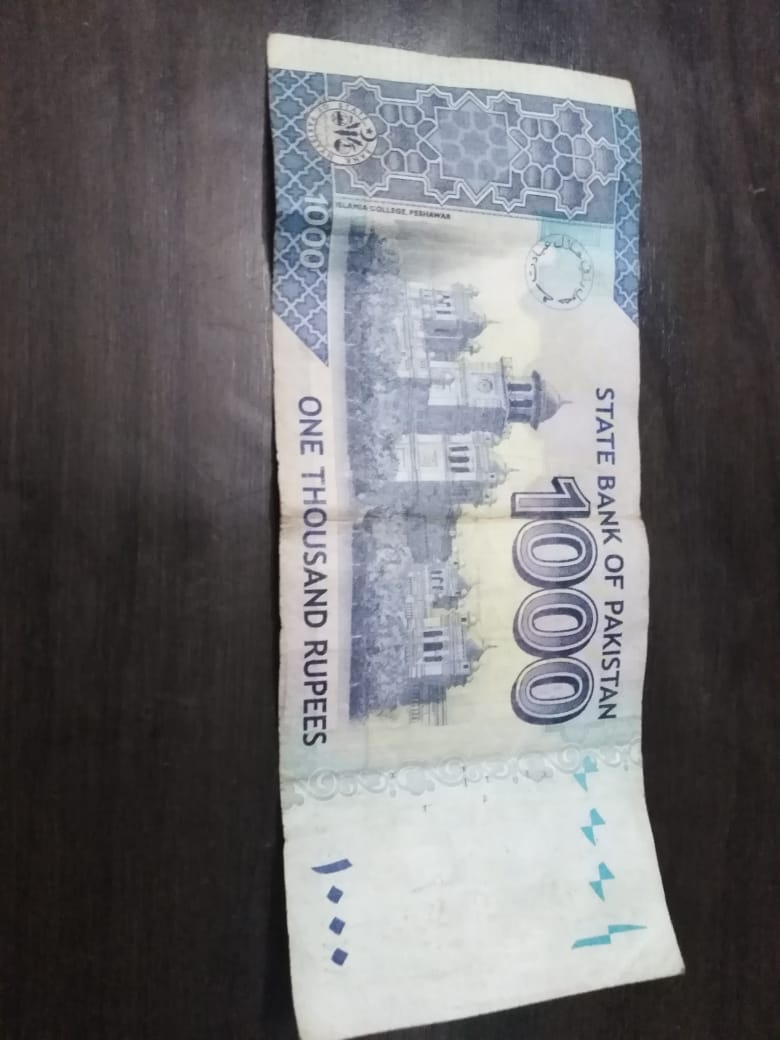1000 rupee: (235, 11, 742, 1036)
